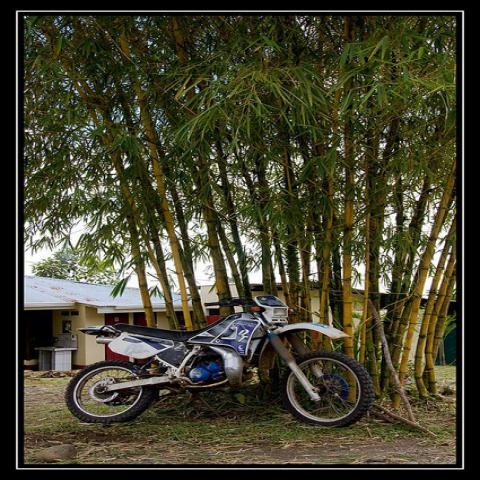motorcycle: (63, 295, 373, 428)
